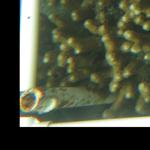alive: (25, 2, 147, 123)
